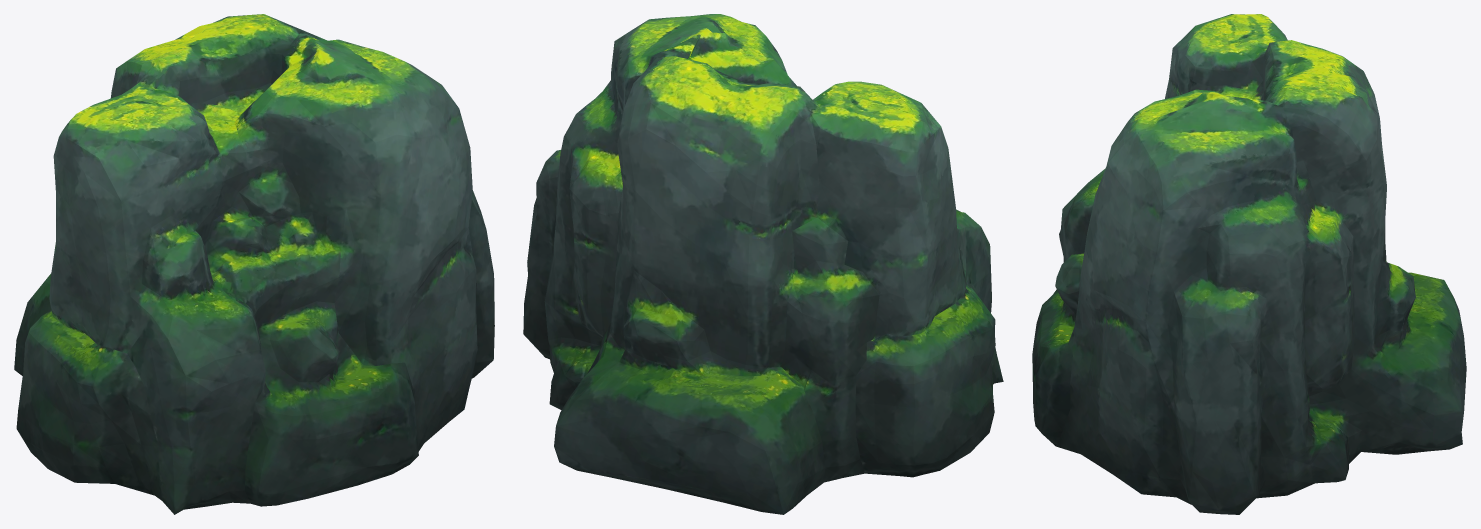
The model's file is rock.glb.
3 views of the same model, side by side, from view 1: azimuth 30°, elevation 25°; view 2: azimuth 150°, elevation 25°; view 3: azimuth 270°, elevation 25° (orthographic).
Visible parts, largest first — view 1: Object_2; view 2: Object_2; view 3: Object_2.
Part boxes in pixels (bbox=[...]): Object_2: bbox=[14, 14, 494, 514]; Object_2: bbox=[523, 14, 1003, 514]; Object_2: bbox=[1032, 14, 1466, 514].
Bounding box in the file's own units: 383 × 296 × 330.
1 material, 1 textured.
